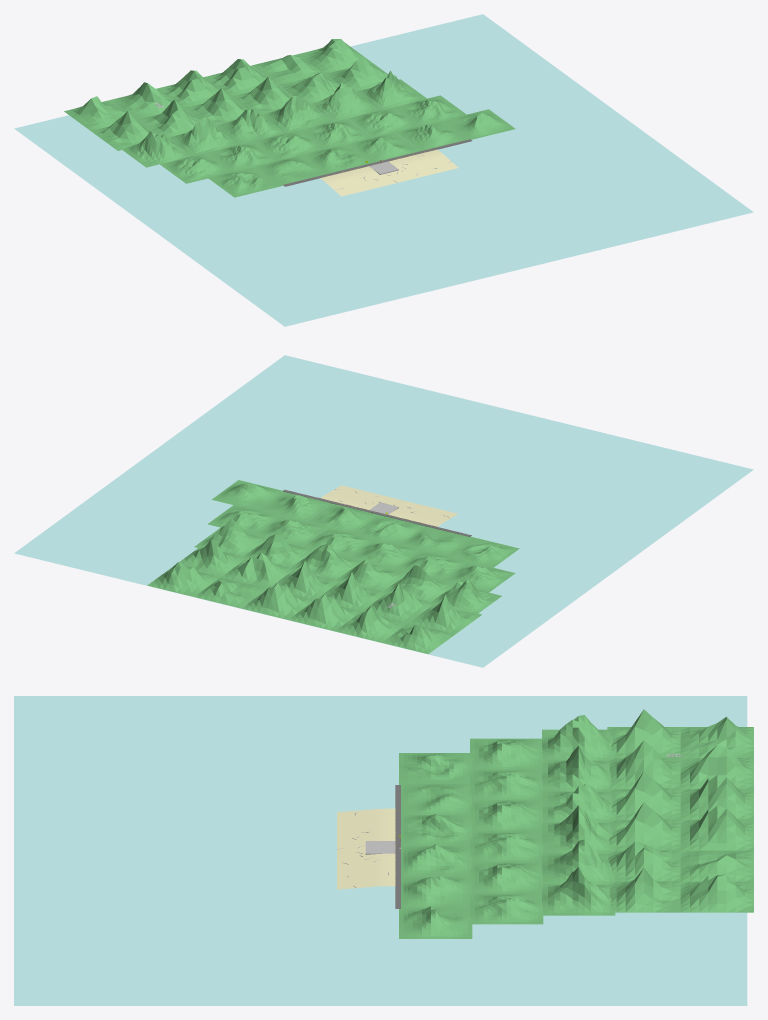
Rendered from transcendence_map-B8urE4ax.gltf.
3 renders of one model, top to bottom at view 1: azimuth 30°, elevation 25°; view 2: azimuth 150°, elevation 25°; view 3: azimuth 270°, elevation 25°, orthographic. The views are drawn at different scales.
Visible parts, largest first — view 1: infiniteSea, Landscape.3 (×12), Landscape.2 (×12), Landscape.1 (×3), Landscape (×3), sand, road.1; view 2: infiniteSea, Landscape.3 (×12), Landscape.2 (×12), Landscape.1 (×3), Landscape (×3), sand, road.1; view 3: infiniteSea, Landscape.3 (×12), Landscape.2 (×12), Landscape.1 (×3), Landscape (×3), sand, road.1.
Boxes of the visible parts, left/top/right/bottom form: infiniteSea: left=14, top=14, right=753, bottom=326; Landscape.3 (×12): left=64, top=39, right=466, bottom=171; Landscape.2 (×12): left=91, top=56, right=419, bottom=183; Landscape.1 (×3): left=255, top=109, right=515, bottom=185; Landscape (×3): left=208, top=121, right=467, bottom=197; sand: left=320, top=149, right=458, bottom=196; road.1: left=283, top=139, right=471, bottom=186; infiniteSea: left=14, top=355, right=753, bottom=667; Landscape.3 (×12): left=147, top=505, right=467, bottom=654; Landscape.2 (×12): left=179, top=516, right=515, bottom=634; Landscape.1 (×3): left=212, top=480, right=472, bottom=556; Landscape (×3): left=259, top=492, right=519, bottom=567; sand: left=321, top=485, right=457, bottom=526; road.1: left=283, top=489, right=471, bottom=536; infiniteSea: left=14, top=696, right=747, bottom=1005; Landscape.3 (×12): left=470, top=716, right=753, bottom=924; Landscape.2 (×12): left=470, top=709, right=680, bottom=912; Landscape.1 (×3): left=399, top=784, right=472, bottom=938; Landscape (×3): left=399, top=753, right=472, bottom=907; sand: left=337, top=808, right=395, bottom=889; road.1: left=395, top=785, right=400, bottom=908.
Size of what is drawn, in the model's own units: 1000 by 55.65 by 1009.
